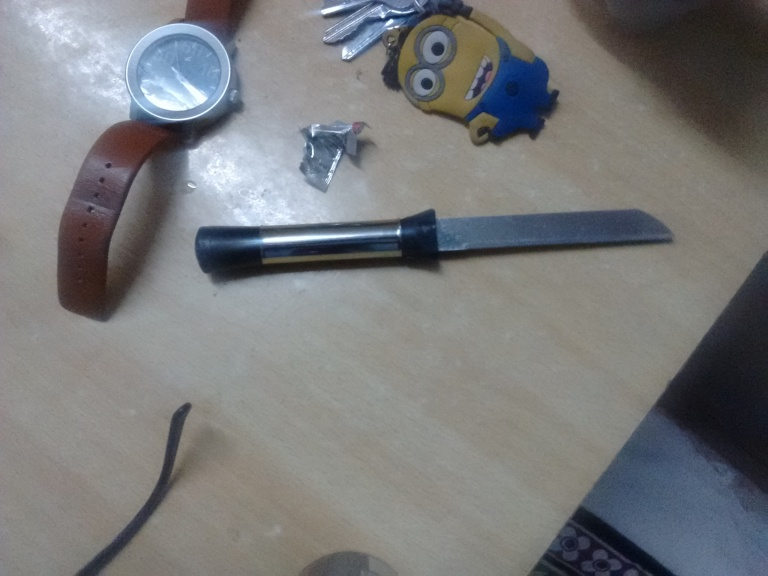knife: (191, 207, 680, 276)
